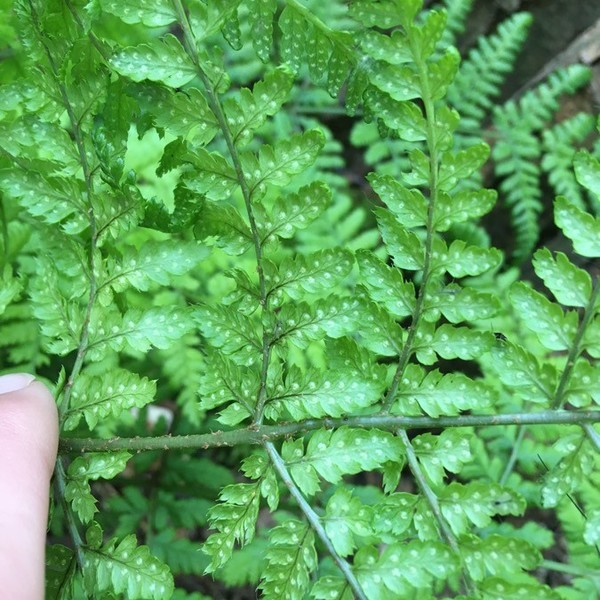obstacle: (161, 14, 555, 556)
